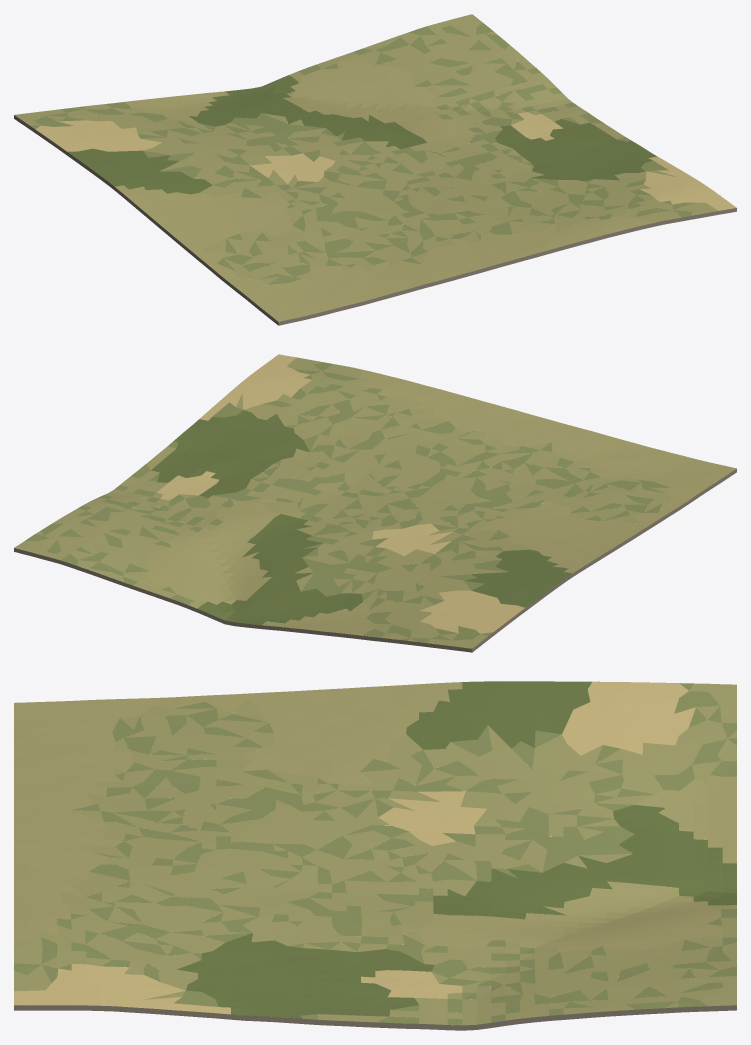
File: parca_+2_+0-uzak.glb
The picture shows the model from 3 angles, top to bottom: view 1: azimuth 30°, elevation 25°; view 2: azimuth 150°, elevation 25°; view 3: azimuth 270°, elevation 25°; orthographic projection. The views are drawn at different scales.
Parts seen in each view (by area): view 1: parca_+2_+0_arazi_uzak; view 2: parca_+2_+0_arazi_uzak; view 3: parca_+2_+0_arazi_uzak.
Part boxes in pixels (x1,y1,x2,y2): parca_+2_+0_arazi_uzak: (14,14,736,325); parca_+2_+0_arazi_uzak: (14,354,736,652); parca_+2_+0_arazi_uzak: (14,681,736,1030).
Size of the model in its own units: 1000 by 79.9 by 1000.
